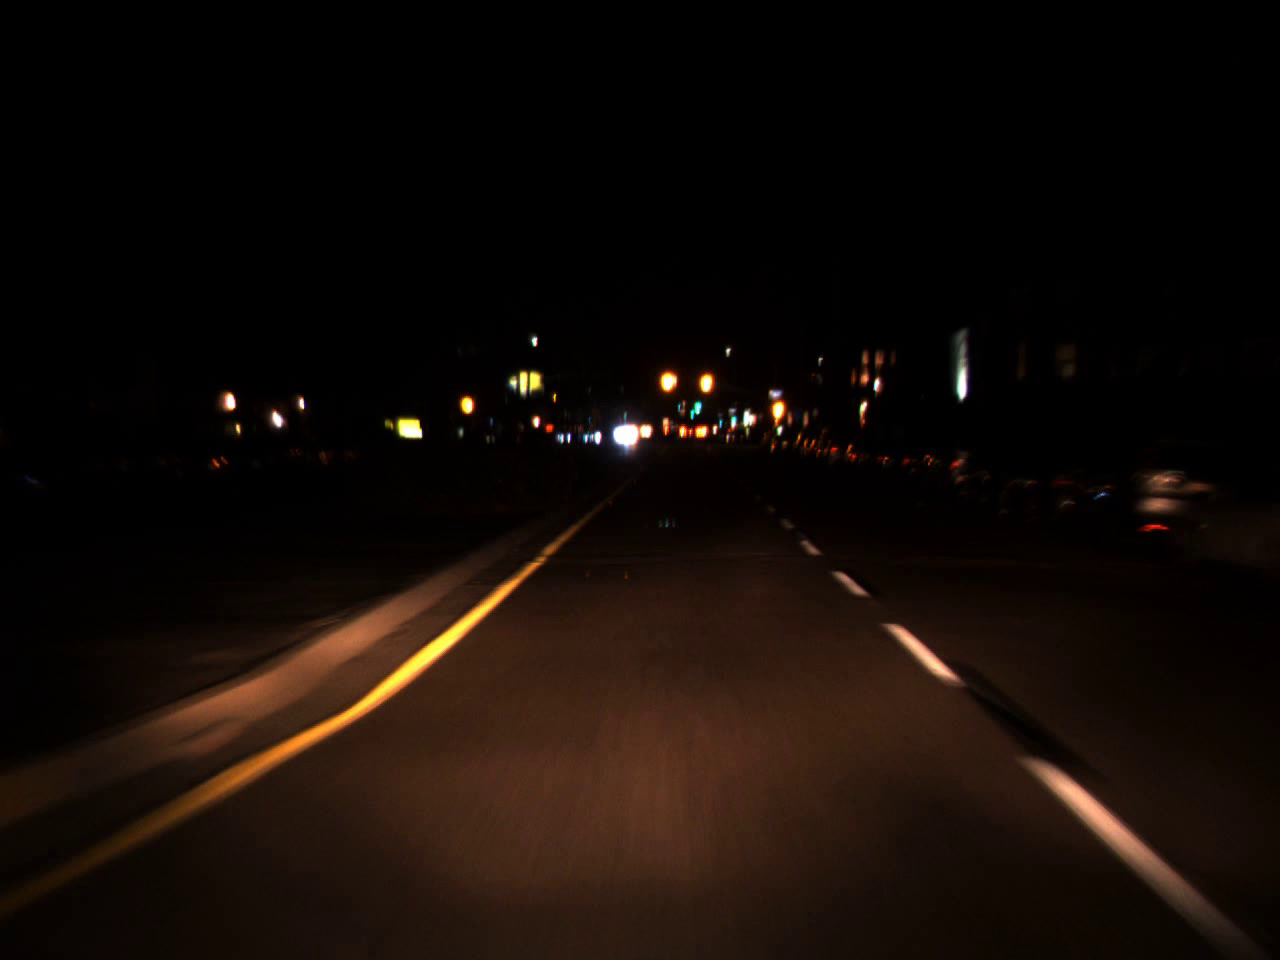go: (692, 384, 701, 419), (728, 404, 737, 428)
warning: (657, 356, 681, 406), (698, 359, 716, 404), (770, 390, 788, 427), (457, 387, 475, 417)
